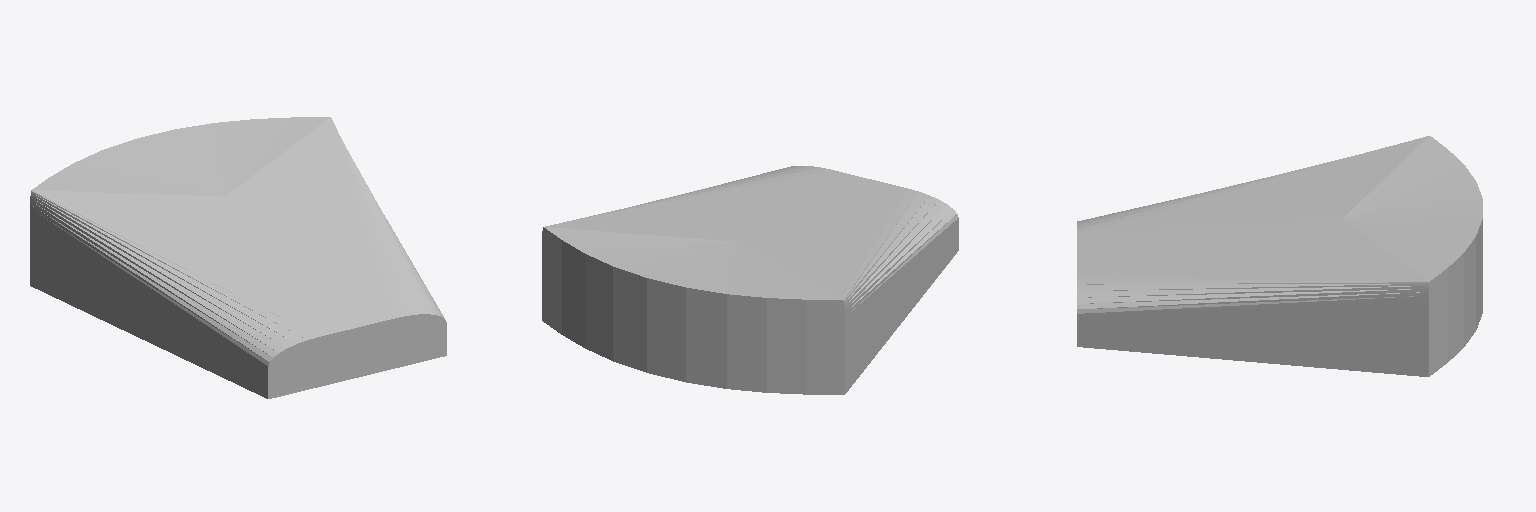
The model's file is GroundSlam.obj.
3 renders of one model, left to right at view 1: azimuth 30°, elevation 25°; view 2: azimuth 150°, elevation 25°; view 3: azimuth 270°, elevation 25°, orthographic.
Parts seen in each view (by area): view 1: Cube; view 2: Cube; view 3: Cube.
Part boxes in pixels (x1,y1,x2,y2): Cube: (30, 117, 446, 398); Cube: (542, 166, 958, 394); Cube: (1077, 136, 1482, 376).
Size of the model in its own units: 2 by 0.599 by 2.32.